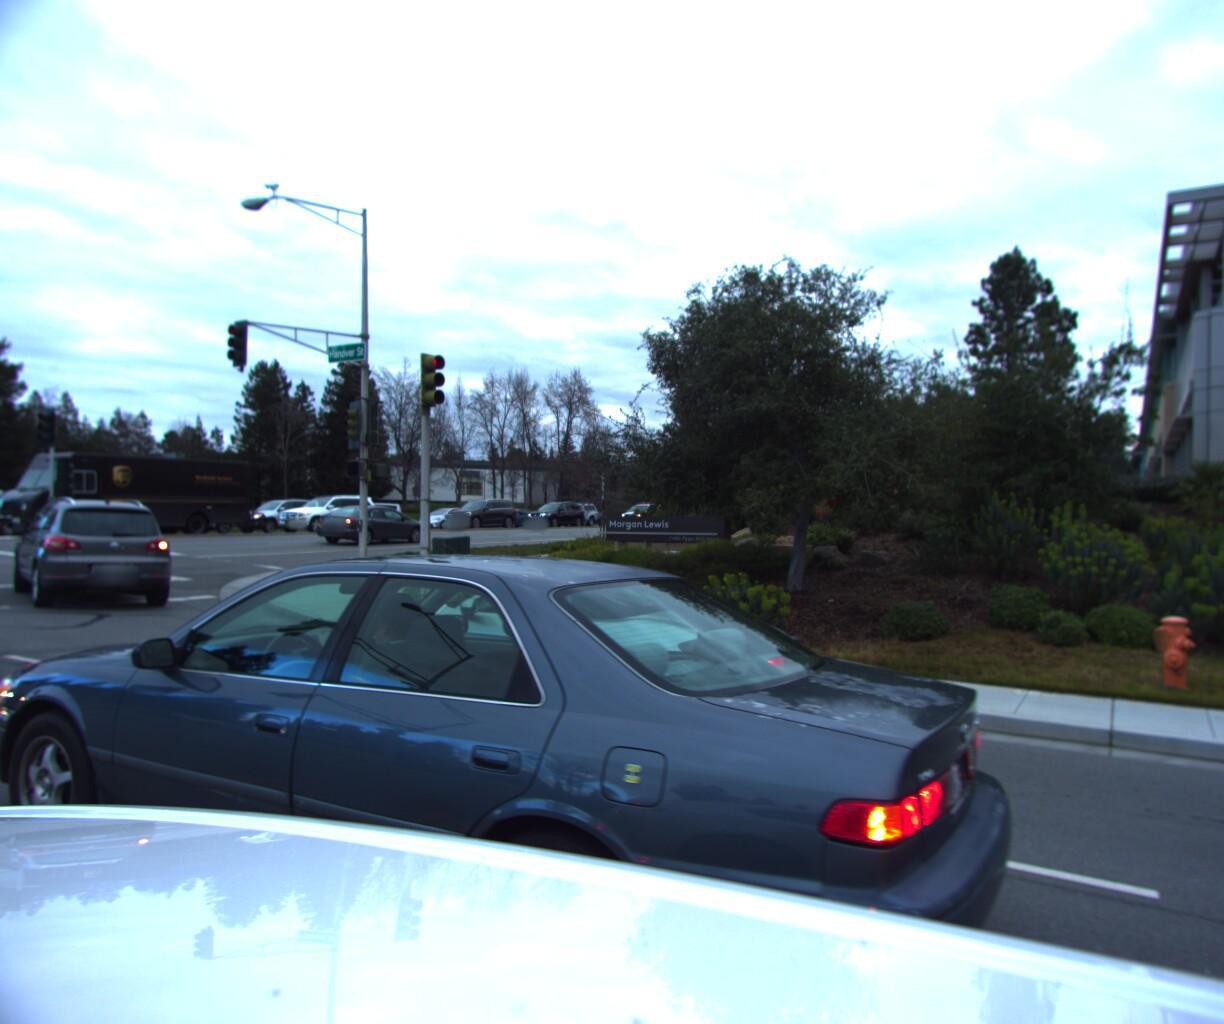car: (0, 538, 1035, 1024), (331, 546, 819, 771), (22, 497, 173, 609), (310, 504, 434, 548), (0, 494, 107, 538), (271, 493, 384, 532), (125, 496, 239, 533), (227, 497, 325, 533), (0, 450, 9, 737), (440, 499, 517, 531), (521, 499, 591, 527), (412, 506, 479, 529), (547, 505, 601, 528), (487, 507, 537, 527)
truck: (0, 442, 256, 538)
